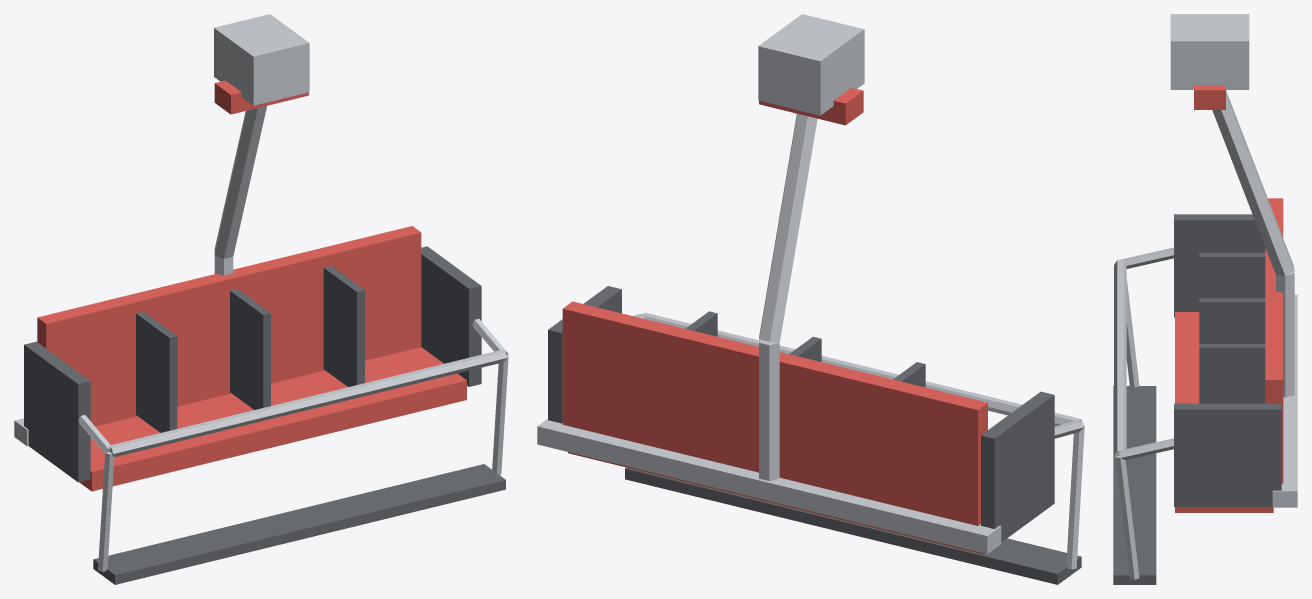
Rendered from chair.glb.
The picture shows the model from 3 angles, left to right: view 1: azimuth 30°, elevation 25°; view 2: azimuth 150°, elevation 25°; view 3: azimuth 270°, elevation 25°; orthographic projection. The views are drawn at different scales.
Visible parts, largest first — view 1: chair-hanger (×3); view 2: chair-hanger (×3); view 3: chair-hanger (×3).
Part boxes in pixels (<box>): chair-hanger (×3): <box>14,14,508,584</box>; chair-hanger (×3): <box>537,14,1084,584</box>; chair-hanger (×3): <box>1113,14,1297,584</box>.
Bounding box in the file's own units: 2.6 × 2.85 × 1.03.
